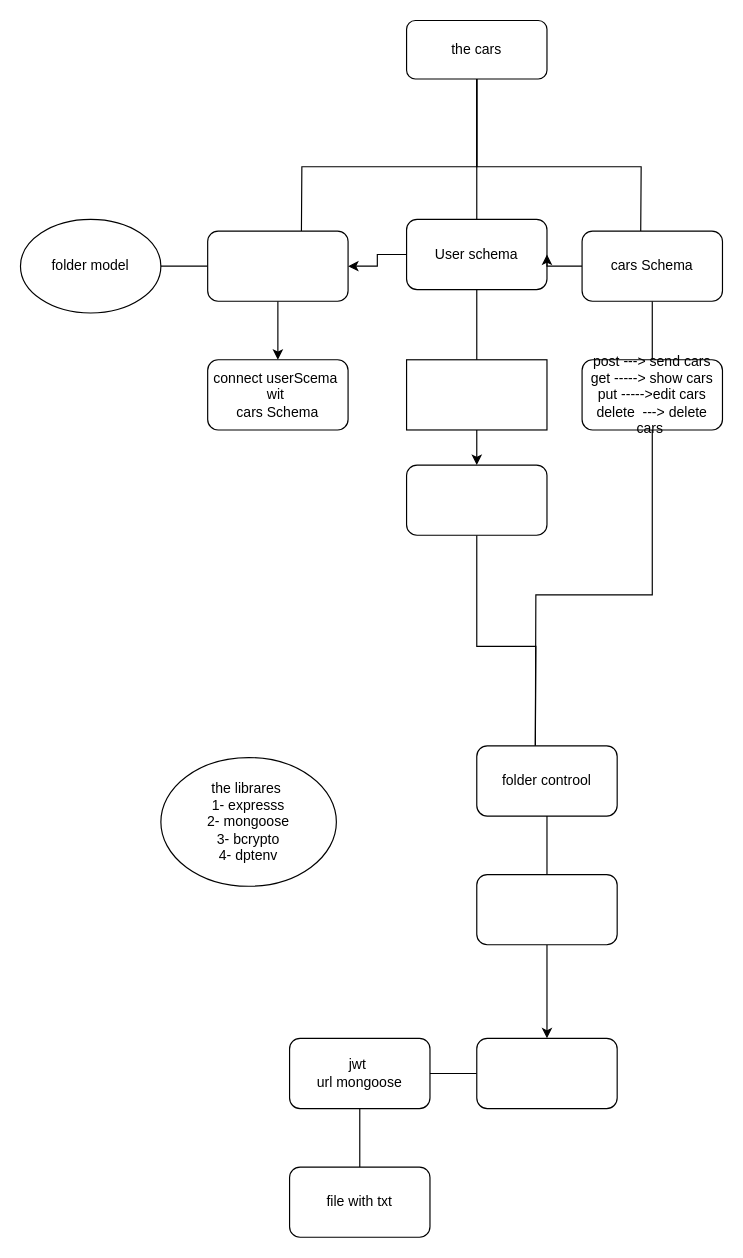
Some shapes in this 743 by 1258 pixel diagram are drawn without their labels. Here are the shapes that lost their labels. From the top down, the box of each, then its label:
(207, 230, 348, 301): connection scema
(405, 359, 547, 430): folder (controol1) register login
(405, 464, 547, 535): post
(476, 873, 617, 945): router
(476, 1037, 617, 1109): main server
